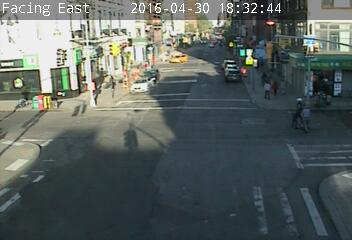neg: (27, 85, 61, 130), (192, 139, 224, 183), (79, 182, 107, 220), (65, 118, 93, 155), (101, 60, 128, 95), (298, 159, 321, 188), (190, 80, 212, 110), (114, 132, 135, 160), (274, 37, 294, 65), (234, 159, 254, 186), (196, 43, 212, 63), (146, 33, 160, 51), (143, 93, 153, 107)
pos: (294, 103, 317, 134), (260, 79, 276, 101)
